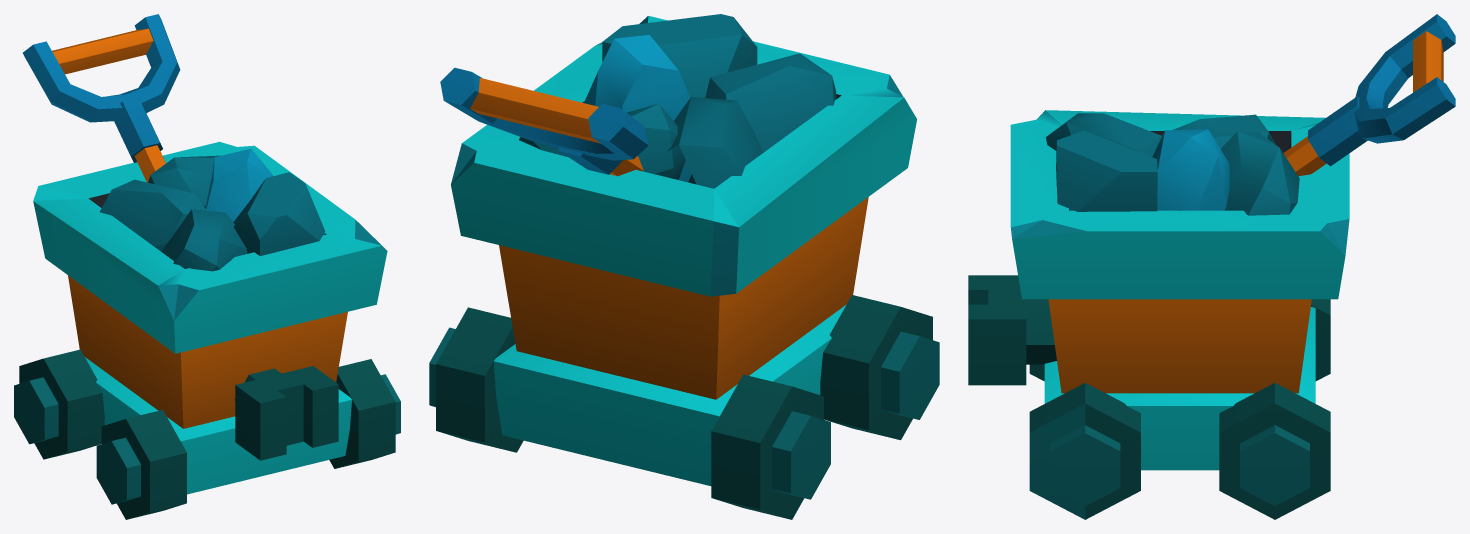
File: Vehicle_Mine_Cart_01.fbx
3 renders of one model, left to right at view 1: azimuth 30°, elevation 25°; view 2: azimuth 150°, elevation 25°; view 3: azimuth 270°, elevation 25°, orthographic. The views are drawn at different scales.
Parts seen in each view (by area): view 1: Vehicle_Mine_Cart_01, Vehicle_Mine_Cart_01_Wheel_F, Vehicle_Mine_Cart_01_Wheel_R; view 2: Vehicle_Mine_Cart_01, Vehicle_Mine_Cart_01_Wheel_R, Vehicle_Mine_Cart_01_Wheel_F; view 3: Vehicle_Mine_Cart_01, Vehicle_Mine_Cart_01_Wheel_R, Vehicle_Mine_Cart_01_Wheel_F.
Part boxes in pixels (<box>): Vehicle_Mine_Cart_01: <box>23,14,387,494</box>; Vehicle_Mine_Cart_01_Wheel_F: <box>96,359,400,519</box>; Vehicle_Mine_Cart_01_Wheel_R: <box>14,349,104,459</box>; Vehicle_Mine_Cart_01: <box>440,14,916,485</box>; Vehicle_Mine_Cart_01_Wheel_R: <box>429,307,830,519</box>; Vehicle_Mine_Cart_01_Wheel_F: <box>820,295,939,440</box>; Vehicle_Mine_Cart_01: <box>968,14,1455,470</box>; Vehicle_Mine_Cart_01_Wheel_R: <box>1219,299,1330,519</box>; Vehicle_Mine_Cart_01_Wheel_F: <box>1029,364,1140,519</box>.
Size of the model in its own units: 147 by 179 by 197.
